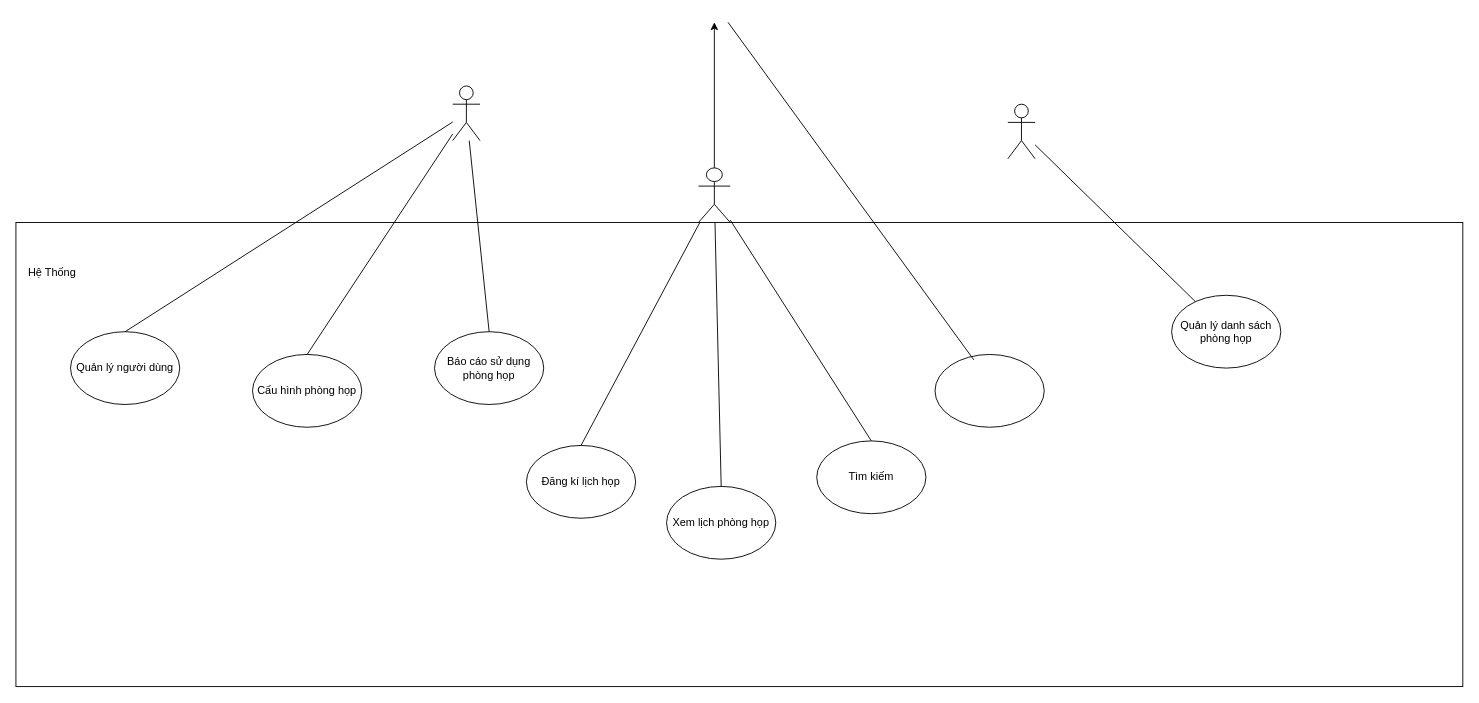
Image size: 1479x703. Some labels were removed from this diagram. Each missing label, with the centre of its shape:
Người duyệt: pixel 1021 131
Nhân Viên: pixel 714 194
Quản lý: pixel 466 113
Đăng nhập: pixel 989 390
